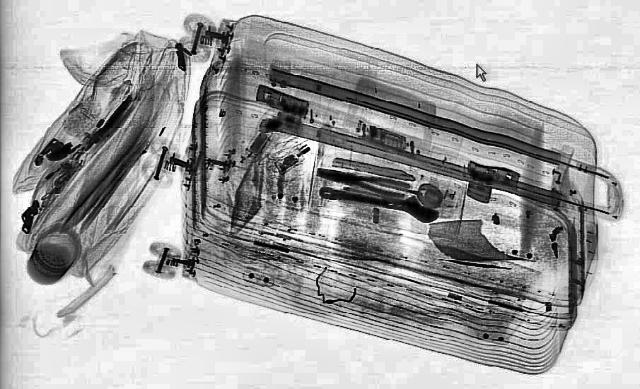Pliers: (308, 162, 412, 198)
Wrench: (309, 180, 445, 224)
